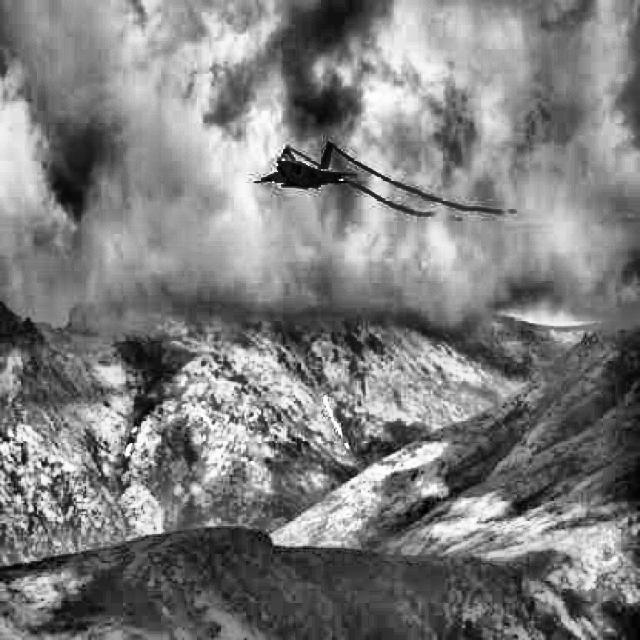F22: (255, 140, 358, 189)
